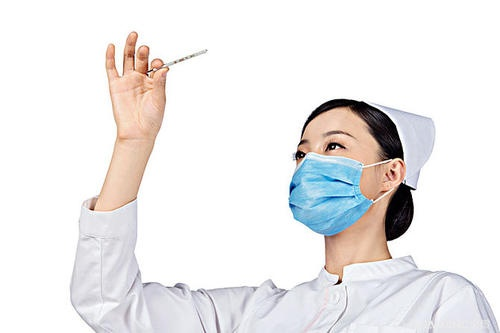correctlyWear: (287, 122, 405, 236)
